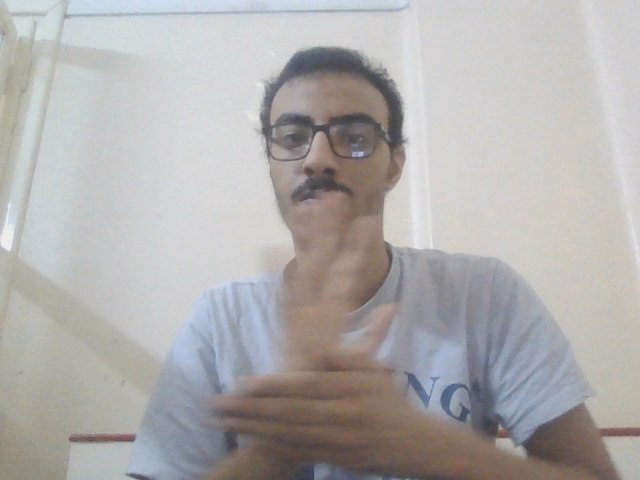Movie: (204, 184, 451, 471)
